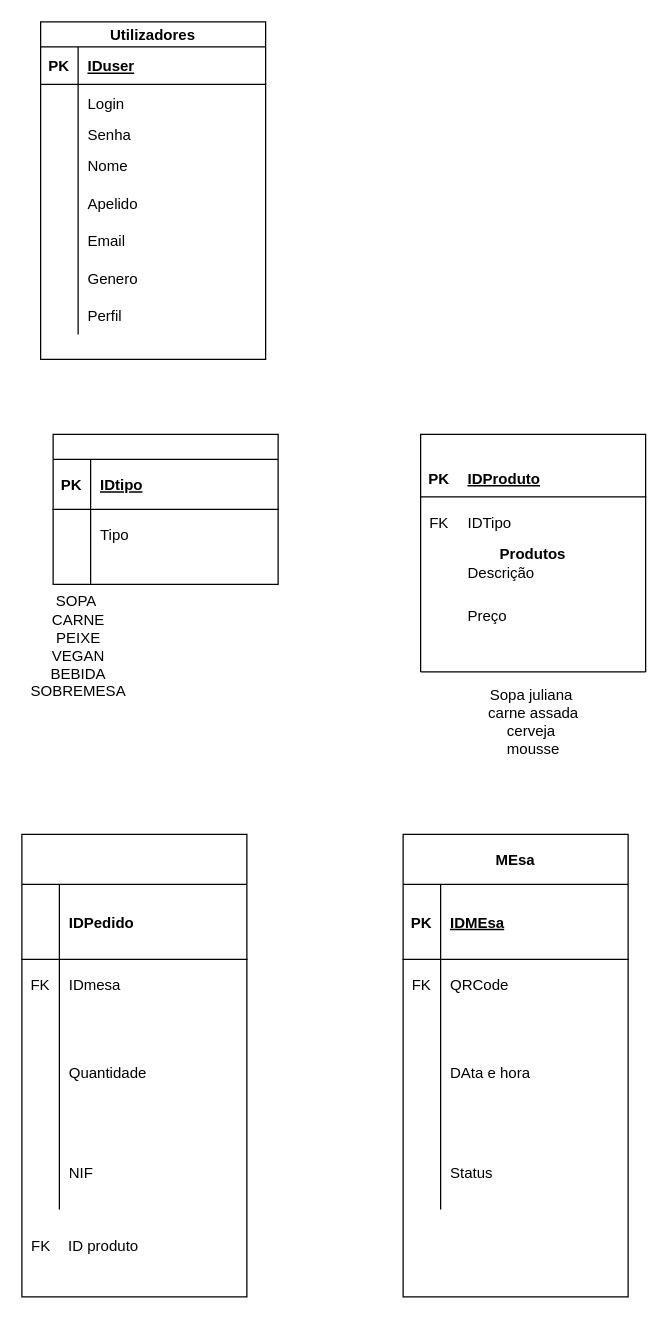
This 668x1319 diagram has some shape labels left out. Here are the shapes that lost their labels. From the top down, the box of each, then its label:
(52, 433, 278, 584): Categorias
(21, 833, 247, 1297): Consulta de mesa
